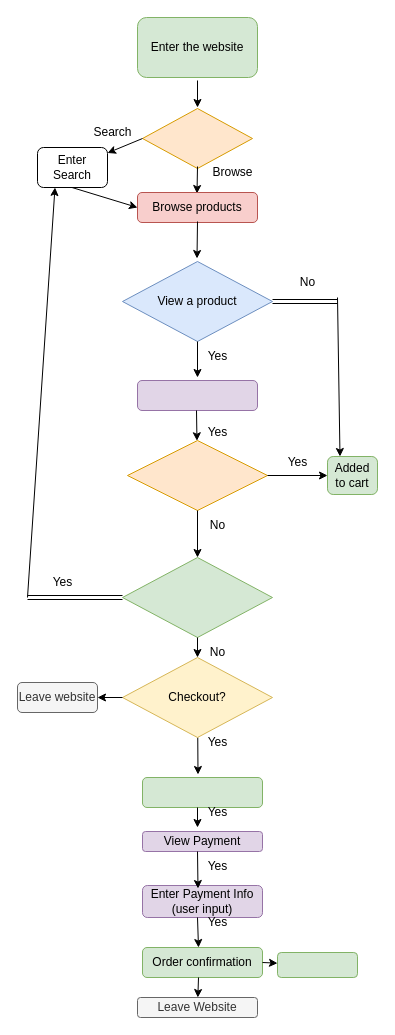
Some shapes in this 395 by 1035 pixel diagram are drawn without their labels. The shapes that lost their labels are listed below. From the top down, each one's box as (x1, y1, x2, y2) in pixels, then its label:
(142, 108, 252, 168): Search or Browse
(136, 380, 258, 410): Product Page
(126, 440, 268, 510): Add to cart?
(122, 556, 272, 638): Continue shopping?
(142, 776, 262, 808): View Cart
(276, 952, 358, 978): Email (sent)
